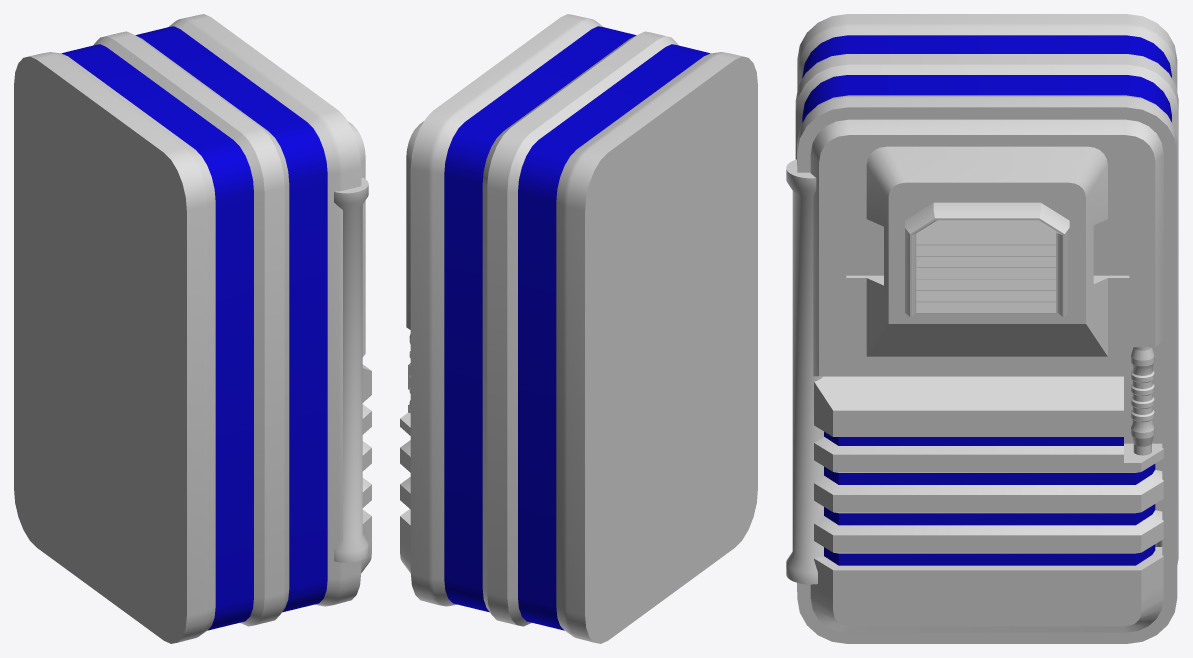
File: SciFiLockeRigged.fbx
3 renders of one model, left to right at view 1: azimuth 30°, elevation 25°; view 2: azimuth 150°, elevation 25°; view 3: azimuth 270°, elevation 25°, orthographic. The views are drawn at different scales.
Visible parts, largest first — view 1: MainLocker_low, Hinge_low; view 2: MainLocker_low, Hinge_low; view 3: Hinge_low, MainLocker_low.
Part boxes in pixels (box(x1,y1,x2,y2)): MainLocker_low: box(14, 14, 361, 643); Hinge_low: box(334, 121, 371, 572); MainLocker_low: box(410, 14, 757, 643); Hinge_low: box(400, 121, 423, 572); Hinge_low: box(786, 119, 1163, 632); MainLocker_low: box(795, 14, 1178, 643).
Size of the model in its own units: 19.21 by 26.08 by 39.53.
